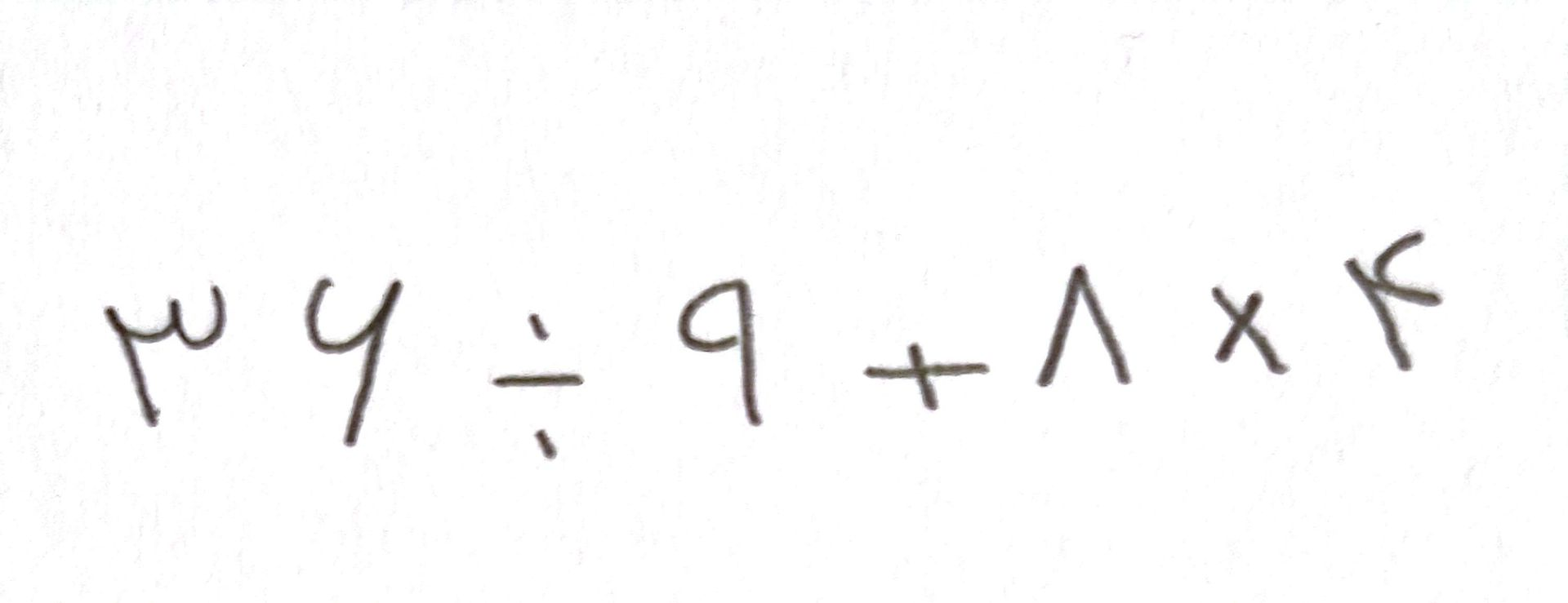character: (106, 284, 226, 428), (305, 277, 403, 446), (1345, 230, 1443, 375), (494, 312, 583, 455), (677, 279, 760, 428), (1036, 266, 1131, 387), (864, 342, 992, 411), (1212, 286, 1289, 376)
